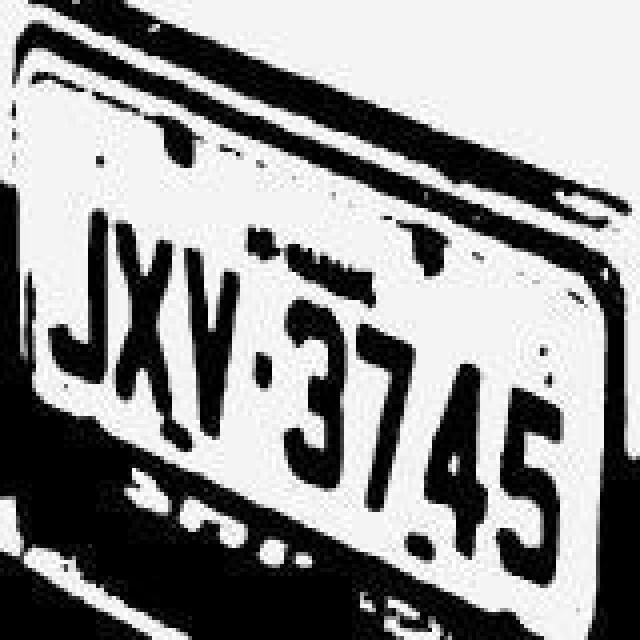3: (278, 292, 346, 508)
4: (422, 344, 490, 568)
5: (492, 386, 564, 606)
7: (352, 312, 416, 528)
J: (50, 192, 110, 392)
V: (178, 246, 238, 442)
X: (114, 194, 174, 422)
